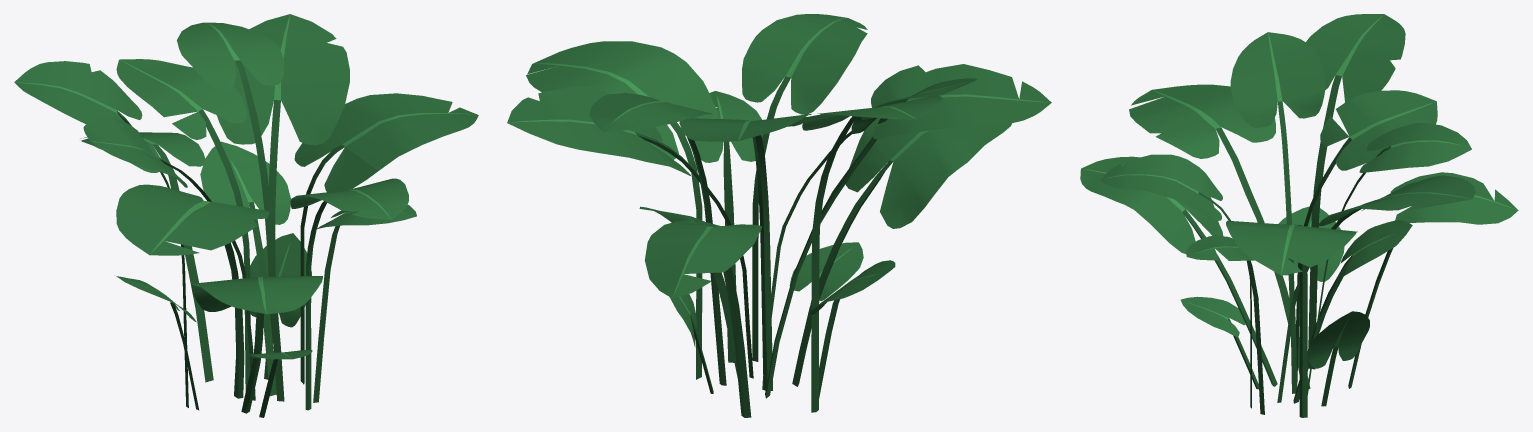
Rendered from plant_monstera_C_wild.fbx.
3 views of the same model, side by side, from view 1: azimuth 30°, elevation 25°; view 2: azimuth 150°, elevation 25°; view 3: azimuth 270°, elevation 25° (orthographic). The views are drawn at different scales.
Visible parts, largest first — view 1: plant_monstera_C_leaf_09, plant_monstera_C_leaf_12, plant_monstera_C_leaf_03, plant_monstera_C_leaf_08, plant_monstera_C_leaf_21, plant_monstera_C_leaf_02, plant_monstera_C_leaf_17, plant_monstera_C_leaf_20, plant_monstera_C_leaf_05, plant_monstera_C_leaf_10, plant_monstera_C_leaf_14, plant_monstera_C_leaf_19 (+3 smaller); view 2: plant_monstera_C_leaf_05, plant_monstera_C_leaf_12, plant_monstera_C_leaf_17, plant_monstera_C_leaf_03, plant_monstera_C_leaf_14, plant_monstera_C_leaf_09, plant_monstera_C_leaf_08, plant_monstera_C_leaf_21, plant_monstera_C_leaf_02, plant_monstera_C_leaf_19, plant_monstera_C_leaf_23, plant_monstera_C_leaf_10 (+3 smaller); view 3: plant_monstera_C_leaf_10, plant_monstera_C_leaf_03, plant_monstera_C_leaf_02, plant_monstera_C_leaf_12, plant_monstera_C_leaf_08, plant_monstera_C_leaf_17, plant_monstera_C_leaf_05, plant_monstera_C_leaf_21, plant_monstera_C_leaf_14, plant_monstera_C_leaf_09, plant_monstera_C_leaf_07, plant_monstera_C_leaf_20 (+3 smaller).
Part boxes in pixels (x1,y1,x2,y2): plant_monstera_C_leaf_09: [217, 14, 349, 401]; plant_monstera_C_leaf_12: [294, 93, 478, 384]; plant_monstera_C_leaf_03: [116, 184, 269, 398]; plant_monstera_C_leaf_08: [116, 59, 250, 390]; plant_monstera_C_leaf_21: [177, 22, 284, 352]; plant_monstera_C_leaf_02: [14, 61, 188, 407]; plant_monstera_C_leaf_17: [191, 276, 322, 413]; plant_monstera_C_leaf_20: [200, 141, 290, 396]; plant_monstera_C_leaf_05: [290, 178, 408, 410]; plant_monstera_C_leaf_10: [83, 117, 255, 400]; plant_monstera_C_leaf_14: [80, 132, 213, 382]; plant_monstera_C_leaf_19: [313, 204, 416, 402]; plant_monstera_C_leaf_05: [742, 14, 867, 361]; plant_monstera_C_leaf_12: [526, 41, 719, 379]; plant_monstera_C_leaf_17: [792, 118, 1012, 386]; plant_monstera_C_leaf_03: [765, 64, 1051, 398]; plant_monstera_C_leaf_14: [644, 220, 761, 417]; plant_monstera_C_leaf_09: [507, 86, 753, 378]; plant_monstera_C_leaf_08: [679, 114, 811, 390]; plant_monstera_C_leaf_21: [589, 93, 726, 385]; plant_monstera_C_leaf_02: [802, 95, 941, 412]; plant_monstera_C_leaf_19: [694, 91, 762, 362]; plant_monstera_C_leaf_23: [789, 242, 863, 304]; plant_monstera_C_leaf_10: [762, 78, 976, 389]; plant_monstera_C_leaf_10: [1230, 32, 1325, 393]; plant_monstera_C_leaf_03: [1129, 84, 1310, 388]; plant_monstera_C_leaf_02: [1305, 14, 1405, 369]; plant_monstera_C_leaf_12: [1226, 220, 1357, 417]; plant_monstera_C_leaf_08: [1296, 90, 1437, 384]; plant_monstera_C_leaf_17: [1080, 156, 1277, 386]; plant_monstera_C_leaf_05: [1100, 154, 1251, 408]; plant_monstera_C_leaf_21: [1307, 123, 1471, 394]; plant_monstera_C_leaf_14: [1348, 172, 1518, 388]; plant_monstera_C_leaf_09: [1277, 175, 1475, 402]; plant_monstera_C_leaf_07: [1307, 311, 1369, 406]; plant_monstera_C_leaf_20: [1293, 220, 1412, 403].
Bounding box in the file's own units: 277 × 213 × 284.
